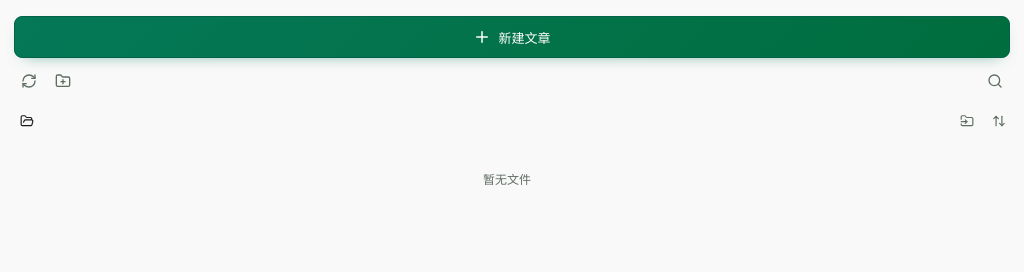
Test case: FileSidebar 刷新入口 › 排序菜单只用对勾标记当前选项
Click the button named "排序方式" at (999, 121), box [984,106,1014,136]
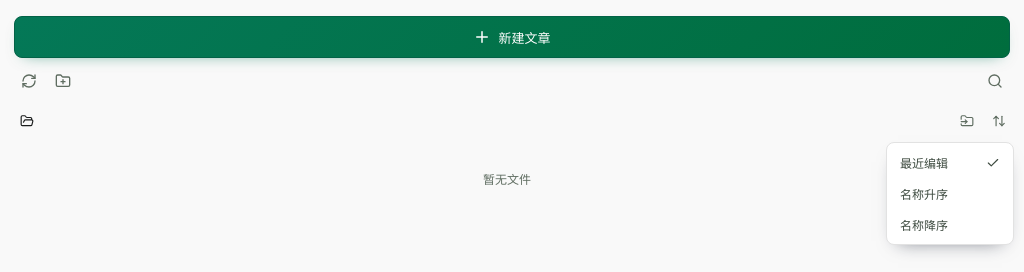
Now the 8th icon is shown, box [986,156,1000,170]
